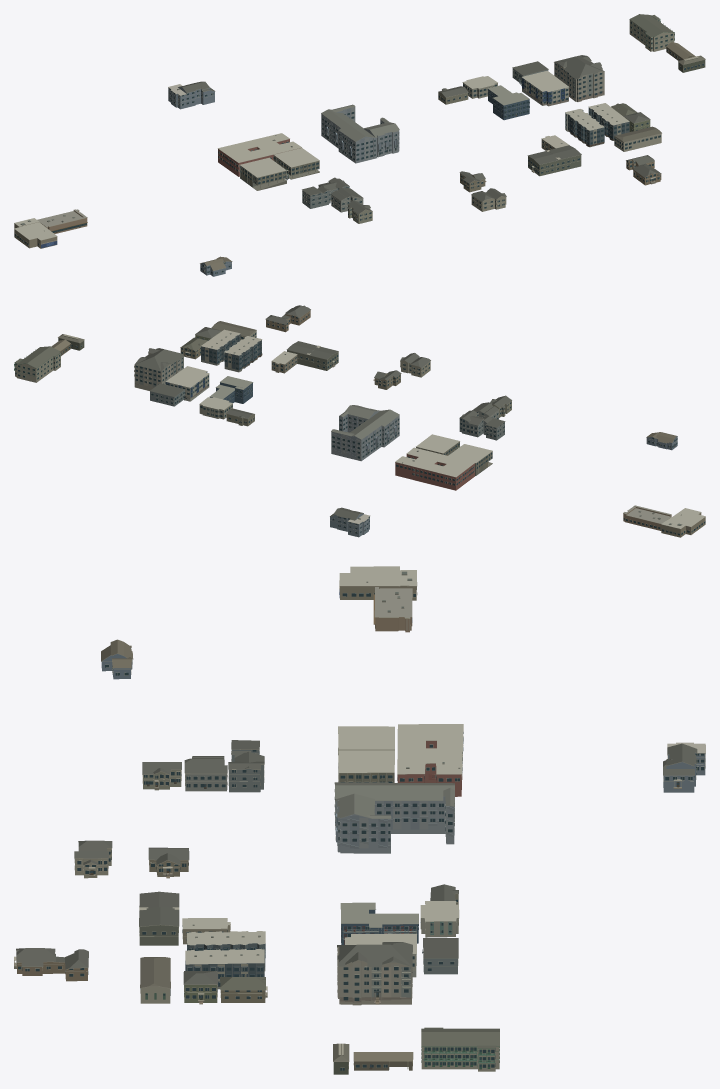
Rendered from site.glb.
3 views of the same model, one above another, from view 1: azimuth 30°, elevation 25°; view 2: azimuth 150°, elevation 25°; view 3: azimuth 270°, elevation 25° (orthographic). The views are drawn at different scales.
Parts seen in each view (by area): view 1: roof-d4aef710, alder-1884, roof-4680399a, roof-f1fd1004, roof-5a0db2c6, roof-a01b7011, roof-4c32075c, east19-960, roof-37a28e00, roof-24824438, east19-661, roof-779042c1 (+12 smaller); view 2: roof-d4aef710, roof-f1fd1004, roof-4680399a, alder-1884, roof-a01b7011, roof-4c32075c, east19-960, alder-1908-1912, roof-5a0db2c6, east19-661, roof-24824438, roof-779042c1 (+12 smaller); view 3: roof-d4aef710, roof-4680399a, roof-f1fd1004, roof-a01b7011, alder-1884, roof-4c32075c, roof-37a28e00, east19-661, roof-779042c1, roof-1531a79c, roof-24824438, alder-1908-1912 (+14 smaller).
Part boxes in pixels (x1,y1,x2,y2): roof-d4aef710: [321, 104, 399, 163]; alder-1884: [240, 148, 319, 188]; roof-4680399a: [554, 55, 604, 101]; roof-f1fd1004: [218, 133, 301, 176]; roof-5a0db2c6: [521, 70, 569, 106]; roof-a01b7011: [629, 14, 674, 51]; roof-4c32075c: [527, 145, 581, 176]; east19-960: [565, 109, 604, 147]; roof-37a28e00: [487, 85, 529, 120]; roof-24824438: [168, 81, 215, 109]; east19-661: [14, 218, 57, 248]; roof-779042c1: [588, 103, 629, 140]; roof-d4aef710: [331, 405, 399, 461]; roof-f1fd1004: [395, 447, 474, 490]; roof-4680399a: [134, 348, 184, 390]; alder-1884: [416, 434, 492, 475]; roof-a01b7011: [14, 346, 60, 382]; roof-4c32075c: [286, 341, 338, 370]; east19-960: [224, 336, 262, 372]; alder-1908-1912: [459, 410, 505, 440]; roof-5a0db2c6: [165, 366, 209, 401]; east19-661: [661, 508, 705, 537]; roof-24824438: [330, 507, 370, 537]; roof-779042c1: [201, 329, 240, 365]; roof-d4aef710: [334, 782, 454, 853]; roof-4680399a: [337, 942, 412, 1005]; roof-f1fd1004: [397, 724, 463, 796]; roof-a01b7011: [421, 1027, 499, 1071]; alder-1884: [338, 726, 394, 782]; roof-4c32075c: [139, 891, 179, 945]; roof-37a28e00: [340, 902, 418, 944]; east19-661: [339, 566, 417, 600]; roof-779042c1: [185, 949, 264, 989]; roof-1531a79c: [14, 948, 88, 981]; roof-24824438: [663, 742, 705, 792]; alder-1908-1912: [228, 740, 264, 792].
Size of the model in its own units: 469 by 31.16 by 259.
